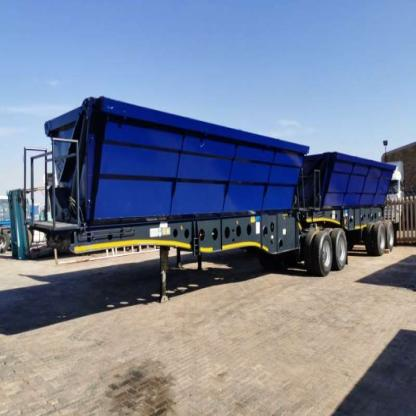dump_truck: (33, 92, 401, 280)
